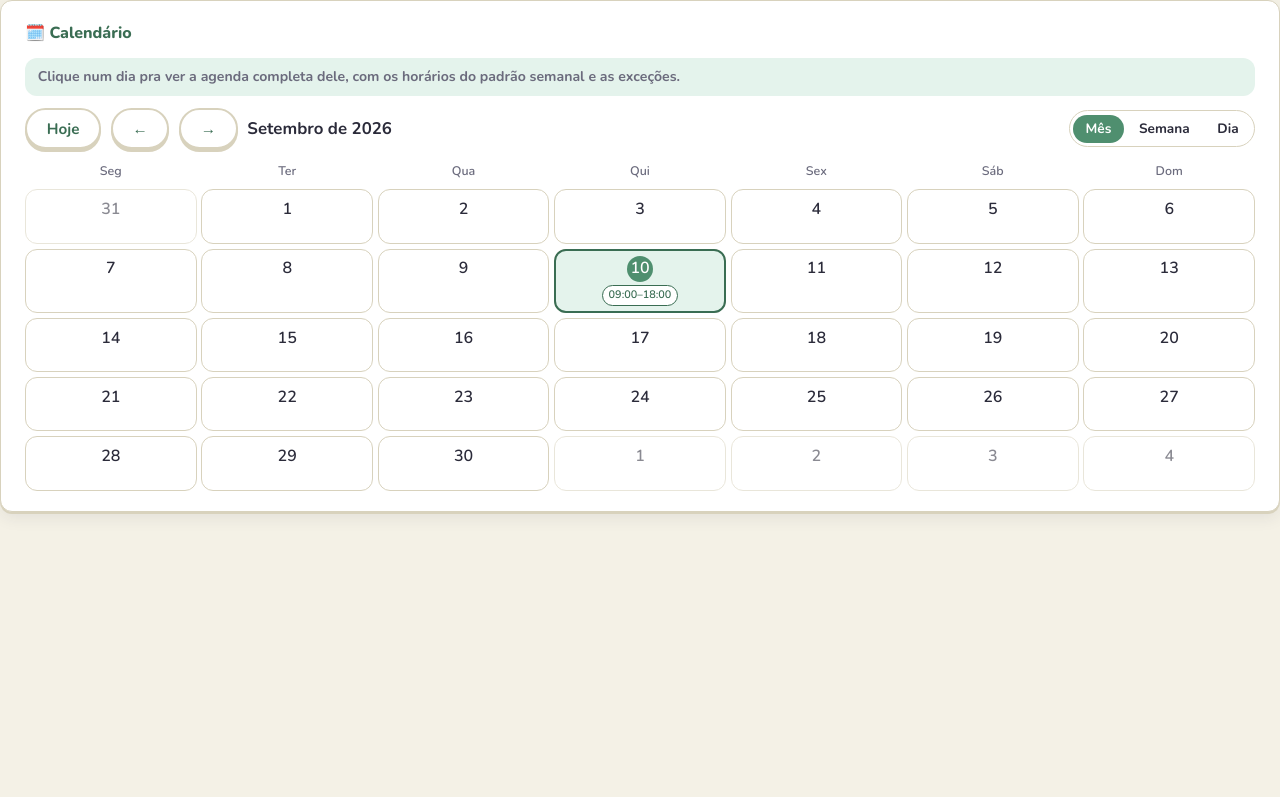
Test: EscalaCalendarioPainel › a agenda do dia mostra uma reunião marcada pelo chefe, por cima do bloco de trabalho
Click the button "10 09:00–18:00": (640, 281) [554, 248, 726, 313]
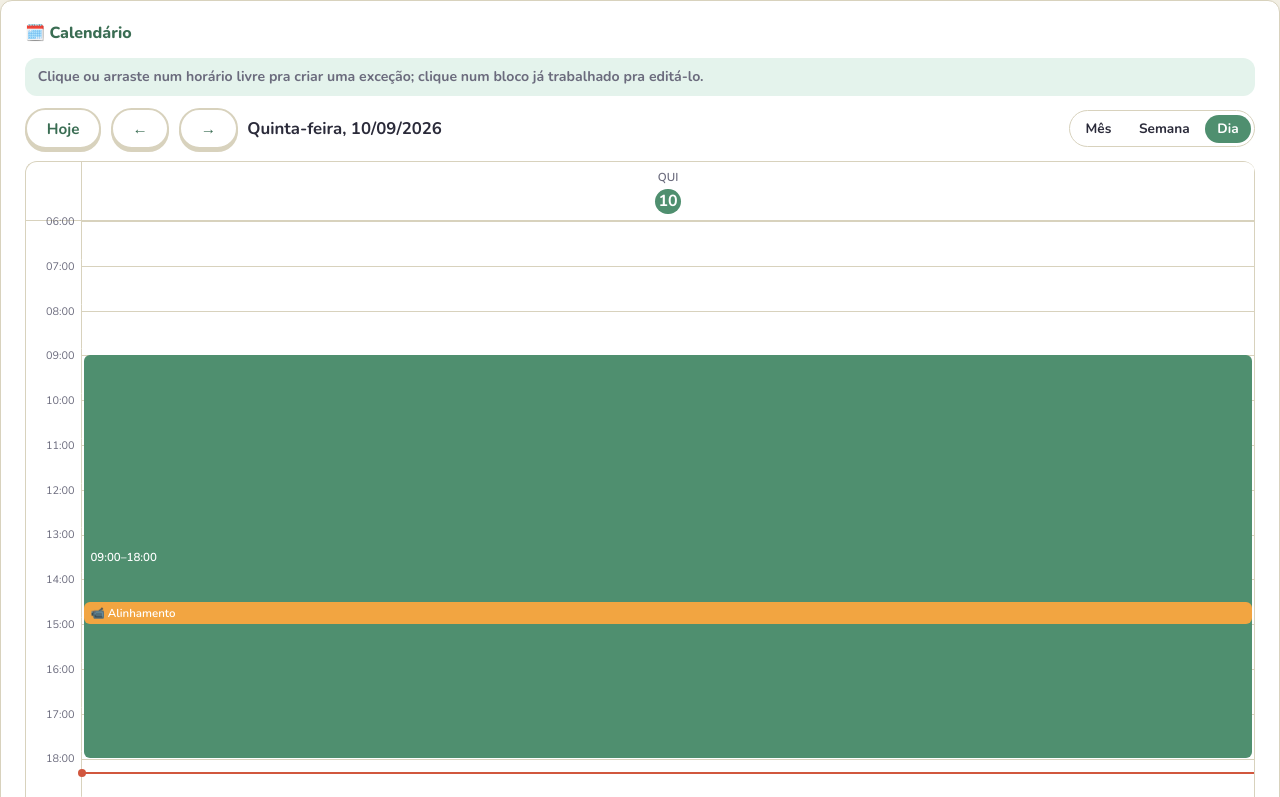
Result: the button "📹 Alinhamento" is shown at [84, 602, 1252, 624]
